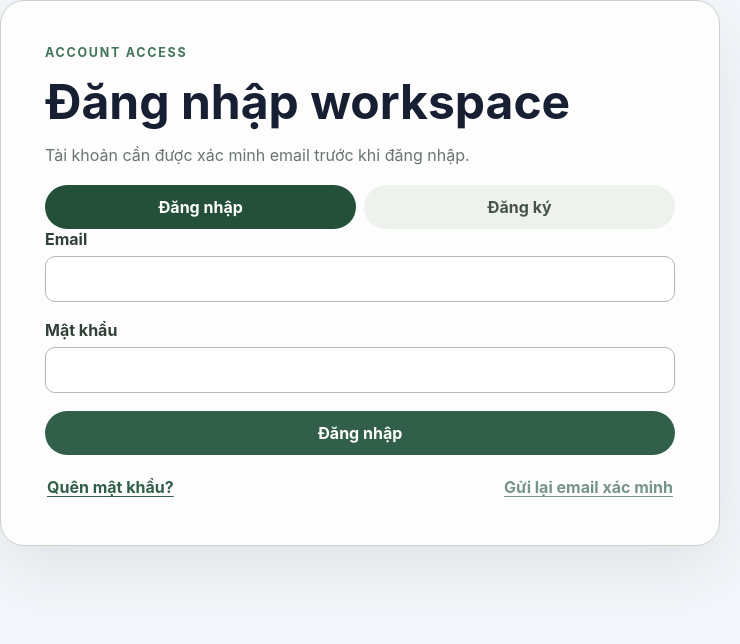
Test: LoginPage account recovery › requests a new verification email from the login form
The width and height of the screenshot is (740, 644).
Type "pending@example.com" into the field labelled "Email".
click(360, 279); type("pending@example.com")  # box [45,256,675,302]
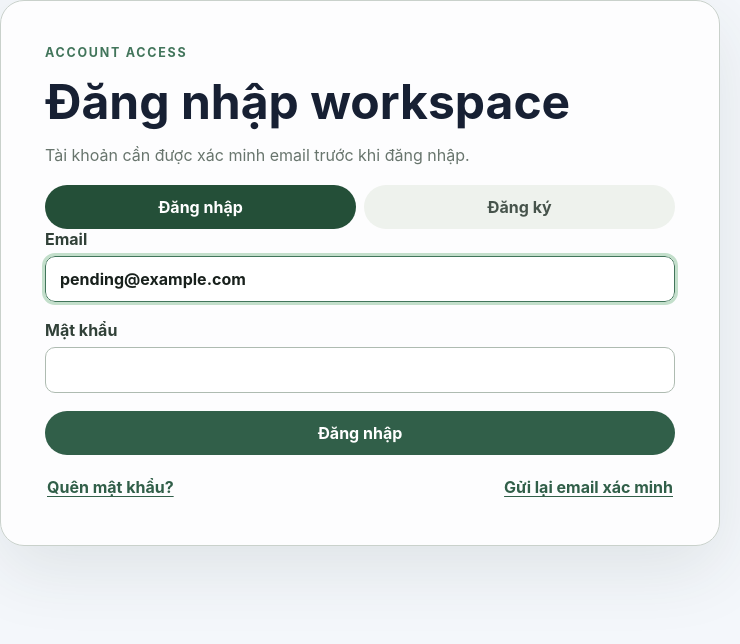
Click the button "Gửi lại email xác minh".
click(589, 487)  # box [502,473,675,501]
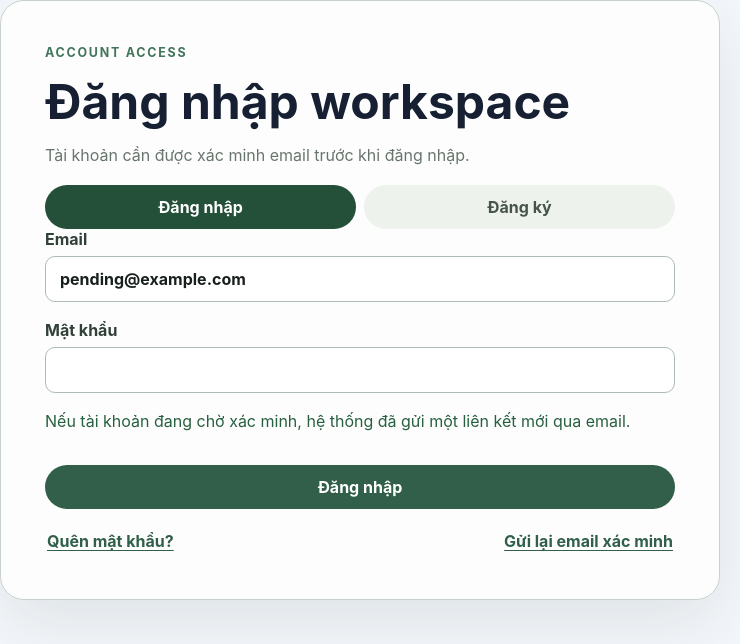
Expected: the text "Nếu tài khoản đang chờ xác minh, hệ thống đã gửi một liên kết mới qua email." is shown, [45,411,675,431]
